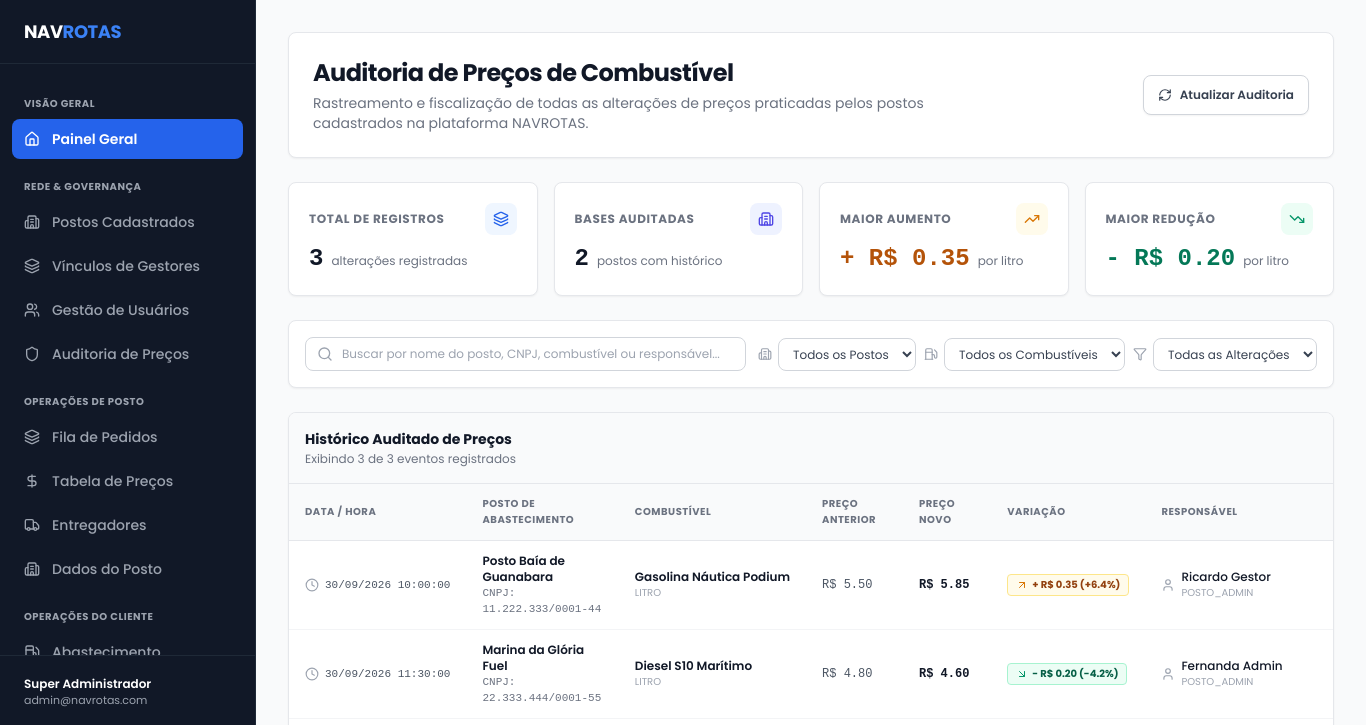
Test case: AdminAuditoriaPage › exibe estado vazio quando busca textual não encontra resultados
Replace the text in the field with placeholder "Buscar por nome do posto" with "TermoInexistente999". click: coordinates (526, 354)
box: [305,337,746,371]
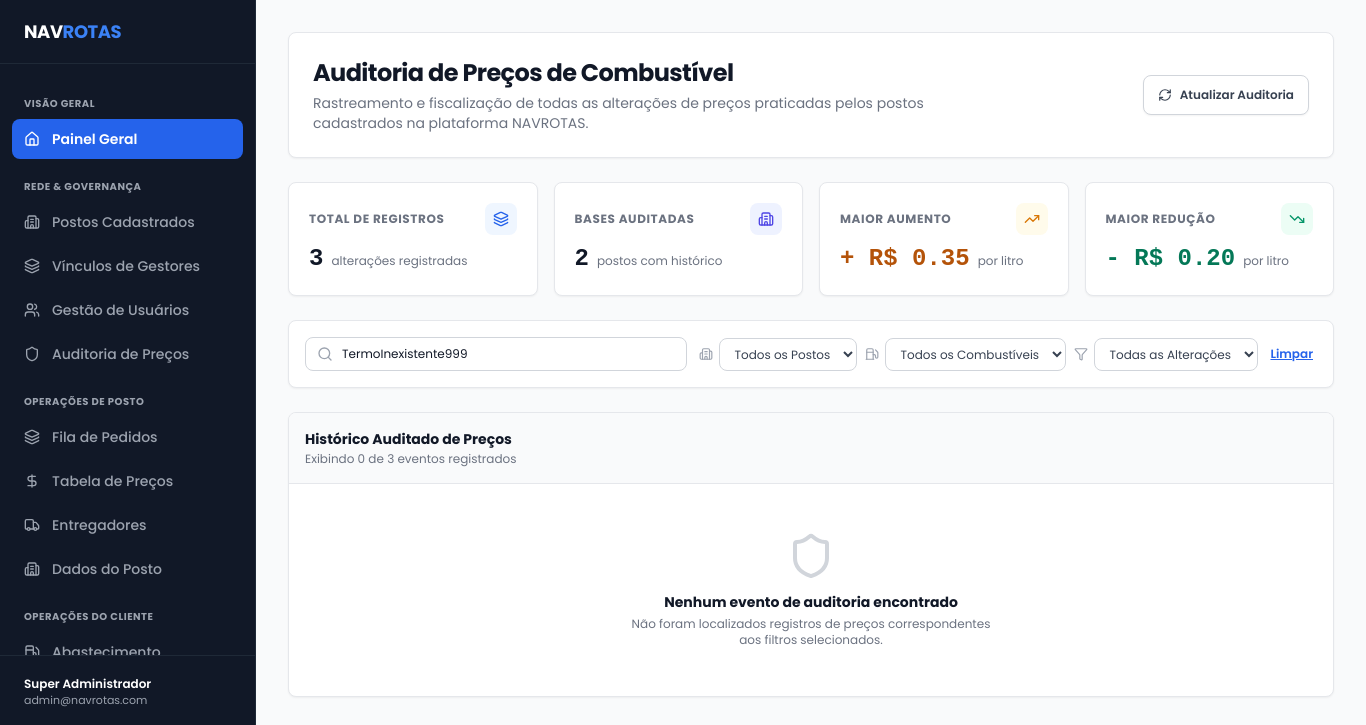
Check: the heading "Nenhum evento de auditoria encontrado" is shown, box [664,592,958,612]
